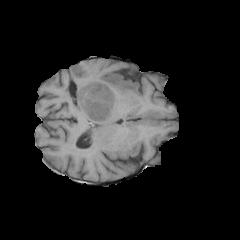glioma: (62, 67, 138, 122)
